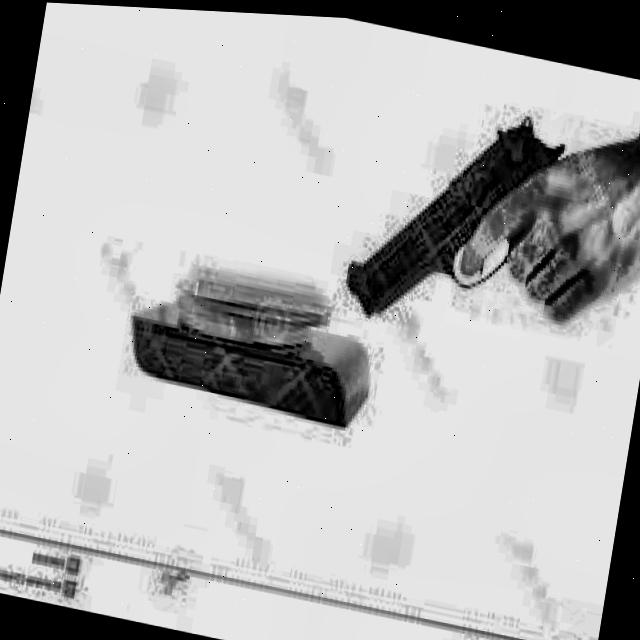pistol: (334, 69, 620, 370)
